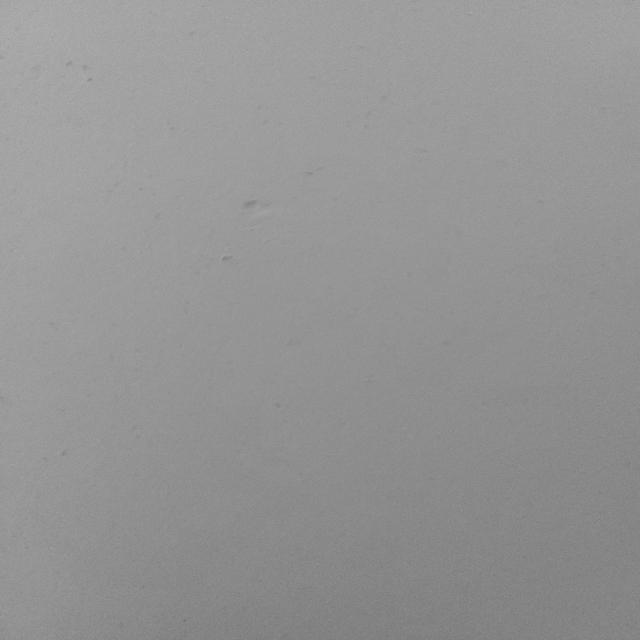rough and patchy surface: (227, 167, 297, 250)
